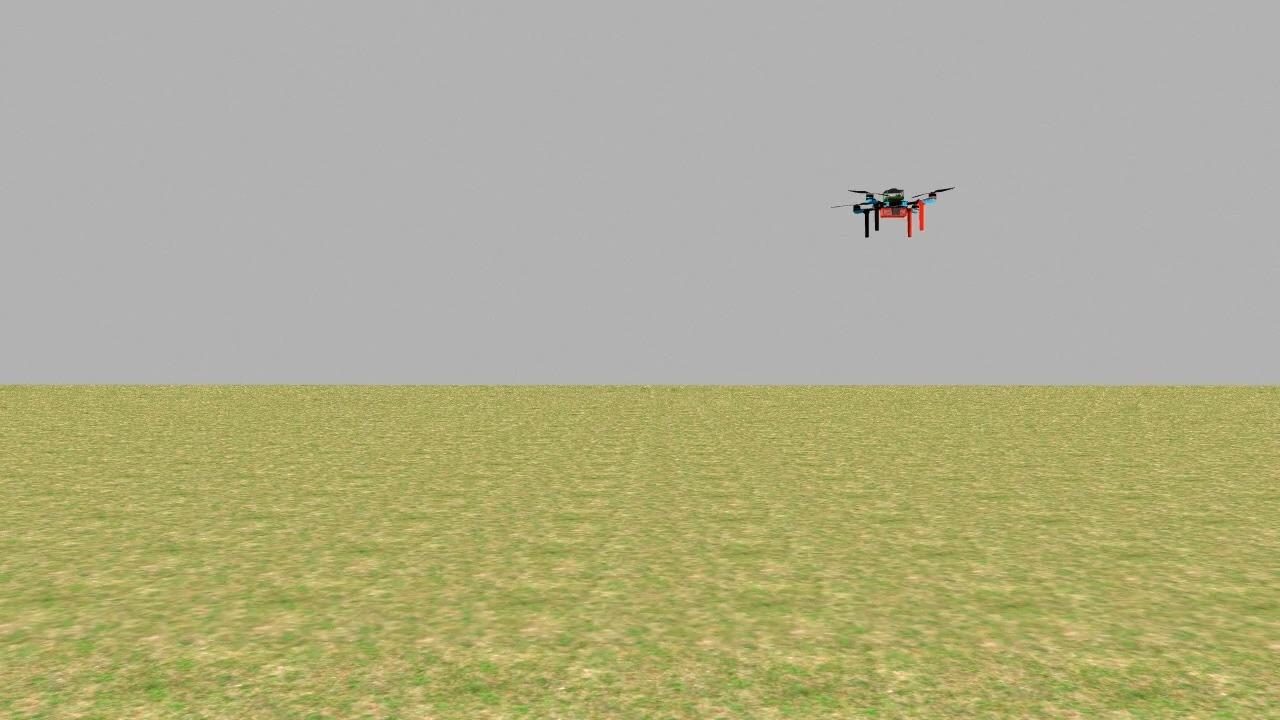UAV: (841, 172, 948, 241)
